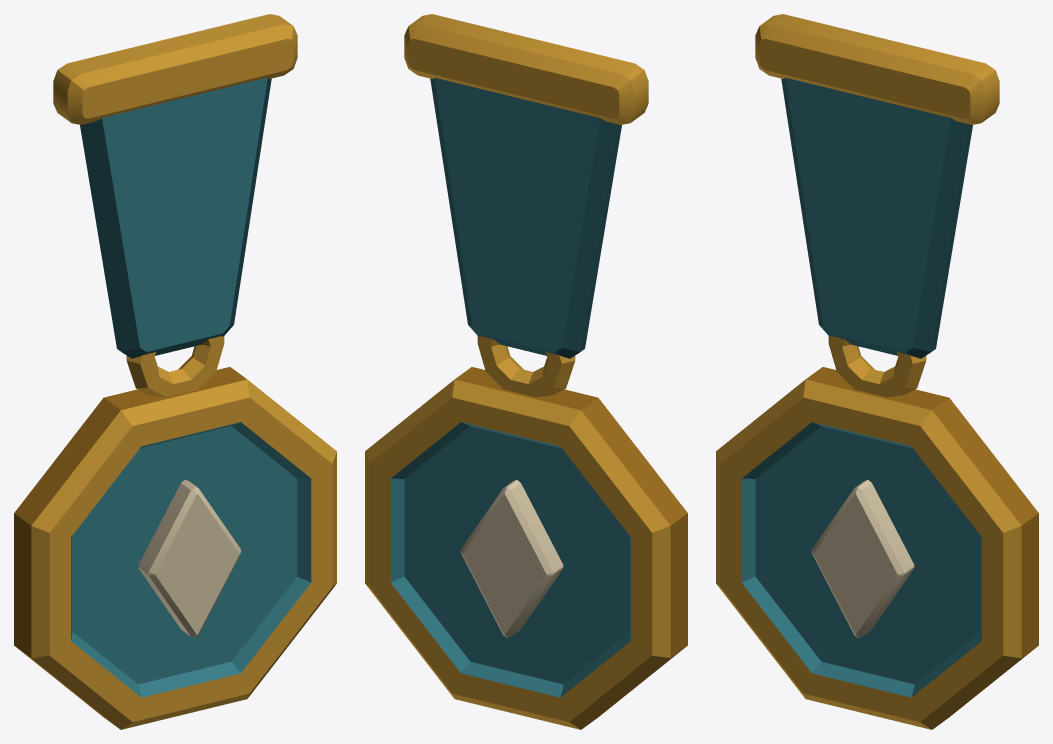
The model's file is Medal_08.glb.
3 renders of one model, left to right at view 1: azimuth 30°, elevation 25°; view 2: azimuth 150°, elevation 25°; view 3: azimuth 330°, elevation 25°, orthographic.
Visible parts, largest first — view 1: Medal_08; view 2: Medal_08; view 3: Medal_08.
Boxes of the visible parts, bbox=[...] form: Medal_08: bbox=[14, 14, 336, 729]; Medal_08: bbox=[365, 14, 687, 729]; Medal_08: bbox=[716, 14, 1038, 729].
Size of the model in its own units: 1.12 by 2.33 by 0.28.
